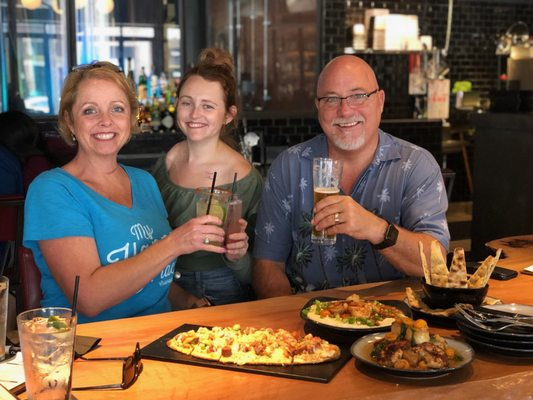pizza: (16, 307, 76, 400), (196, 186, 240, 253)
sushi: (420, 245, 497, 309)
